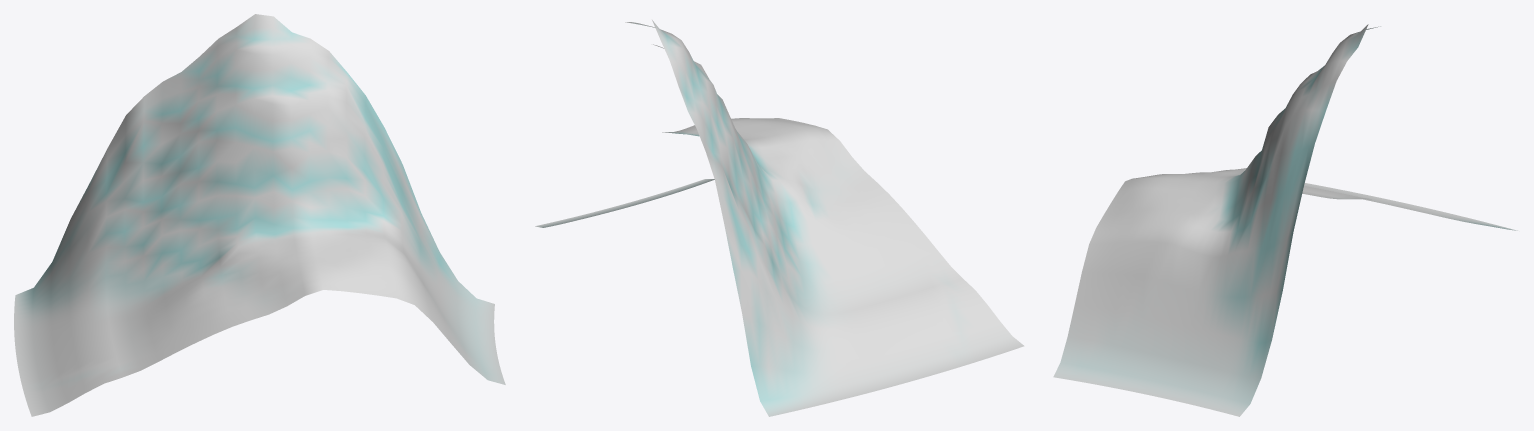
File: near_4.glb
3 views of the same model, side by side, from view 1: azimuth 30°, elevation 25°; view 2: azimuth 150°, elevation 25°; view 3: azimuth 270°, elevation 25° (orthographic). The views are drawn at different scales.
Visible parts, largest first — view 1: Mountain; view 2: Mountain; view 3: Mountain.
Part boxes in pixels (x1,y1,x2,y2): Mountain: (14,14,505,416); Mountain: (535,20,1024,416); Mountain: (1053,24,1517,416).
Size of the model in its own units: 390 by 230 by 313.
